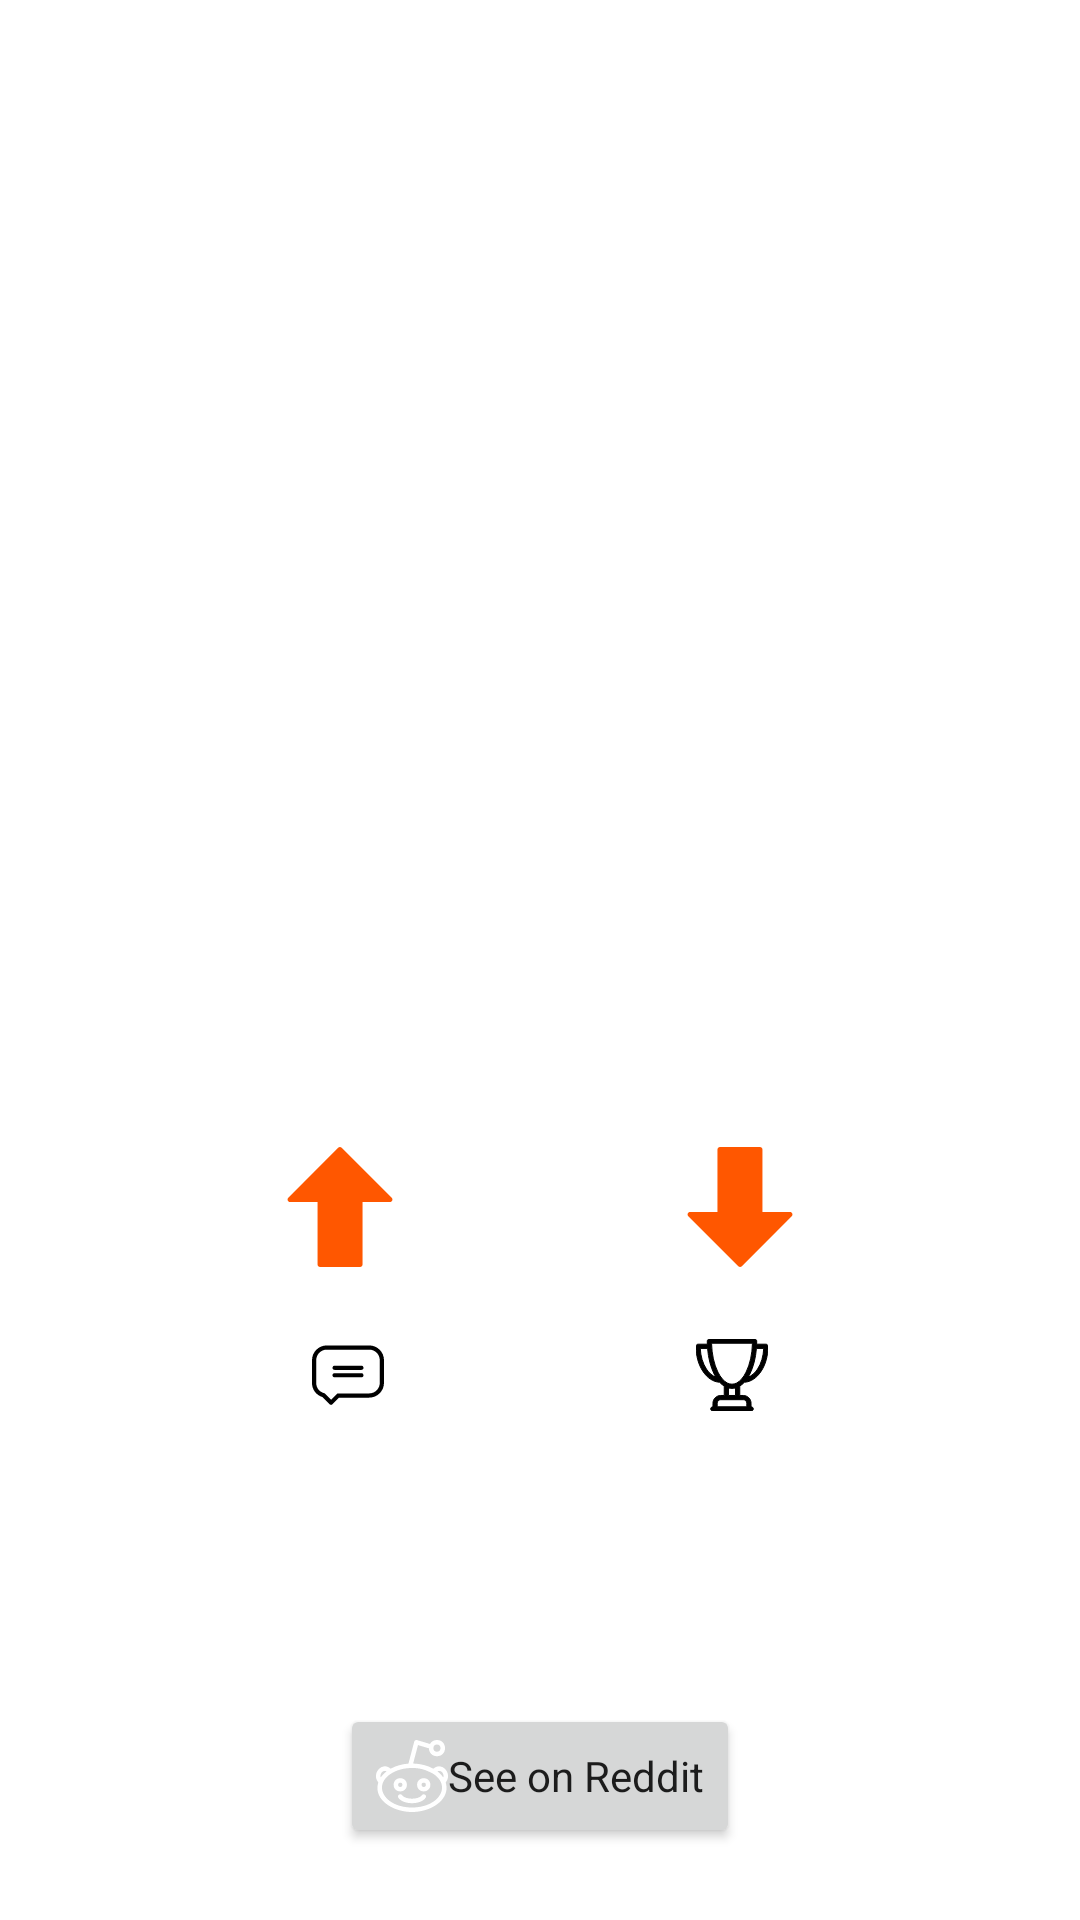

Icon click points for this 1080*1920 phone screenshot, format point (x, y):
message: point (348, 1375)
trophy: point (732, 1375)
